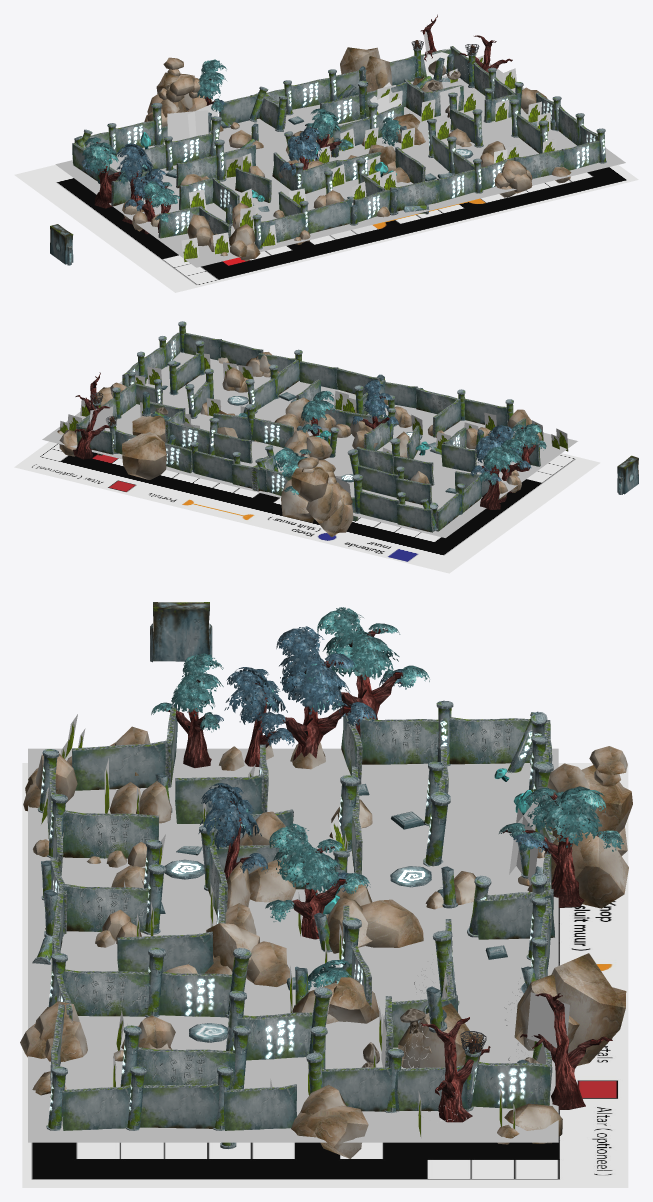
File: Level V3.fbx
3 views of the same model, one above another, from view 1: azimuth 30°, elevation 25°; view 2: azimuth 150°, elevation 25°; view 3: azimuth 270°, elevation 25° (orthographic). The views are drawn at different scales.
Visible parts, largest first — view 1: pPlane39, pPlane16, polySurface375, polySurface452, polySurface228, polySurface740, polySurface741, polySurface345, polySurface739, polySurface418, polySurface292, waterfall_impact_2 (+39 smaller); view 2: pPlane39, pPlane16, polySurface431, polySurface228, polySurface375, polySurface452, polySurface741, polySurface408, polySurface418, polySurface390, polySurface286, polySurface292 (+39 smaller); view 3: pPlane16, pPlane39, polySurface740, polySurface739, polySurface292, polySurface228, polySurface431, polySurface323, polySurface326, polySurface531, polySurface337, polySurface352 (+54 smaller).
Boxes of the visible parts, x1,y1,x2,y2 form: pPlane39: (14,165,638,292); pPlane16: (55,63,625,267); polySurface375: (390,169,475,211); polySurface452: (514,140,599,178); polySurface228: (81,137,133,208); polySurface740: (116,143,163,224); polySurface741: (279,127,321,175); polySurface345: (307,198,351,233); polySurface739: (197,59,226,113); polySurface418: (291,78,330,109); polySurface292: (304,108,353,160); waterfall_impact_2: (167,110,208,141); pPlane39: (14,441,600,573); pPlane16: (42,352,577,537); polySurface431: (122,433,166,479); polySurface228: (478,439,524,510); polySurface375: (299,361,379,394); polySurface452: (183,333,263,365); polySurface741: (352,380,398,429); polySurface408: (291,466,328,502); polySurface418: (193,451,234,482); polySurface390: (359,491,399,523); polySurface286: (251,417,293,447); polySurface292: (301,391,337,435); pPlane16: (28,748,558,1142); pPlane39: (22,763,628,1187); polySurface740: (256,626,376,760); polySurface739: (499,786,623,907); polySurface292: (265,823,370,939); polySurface228: (317,607,429,736); polySurface431: (551,953,626,1065); polySurface323: (63,810,158,858); polySurface326: (72,740,167,790); polySurface531: (63,969,149,1016); polySurface337: (151,653,223,767); polySurface352: (360,717,438,764).
Bounding box in the file's own units: 127 × 19.74 × 66.38.
